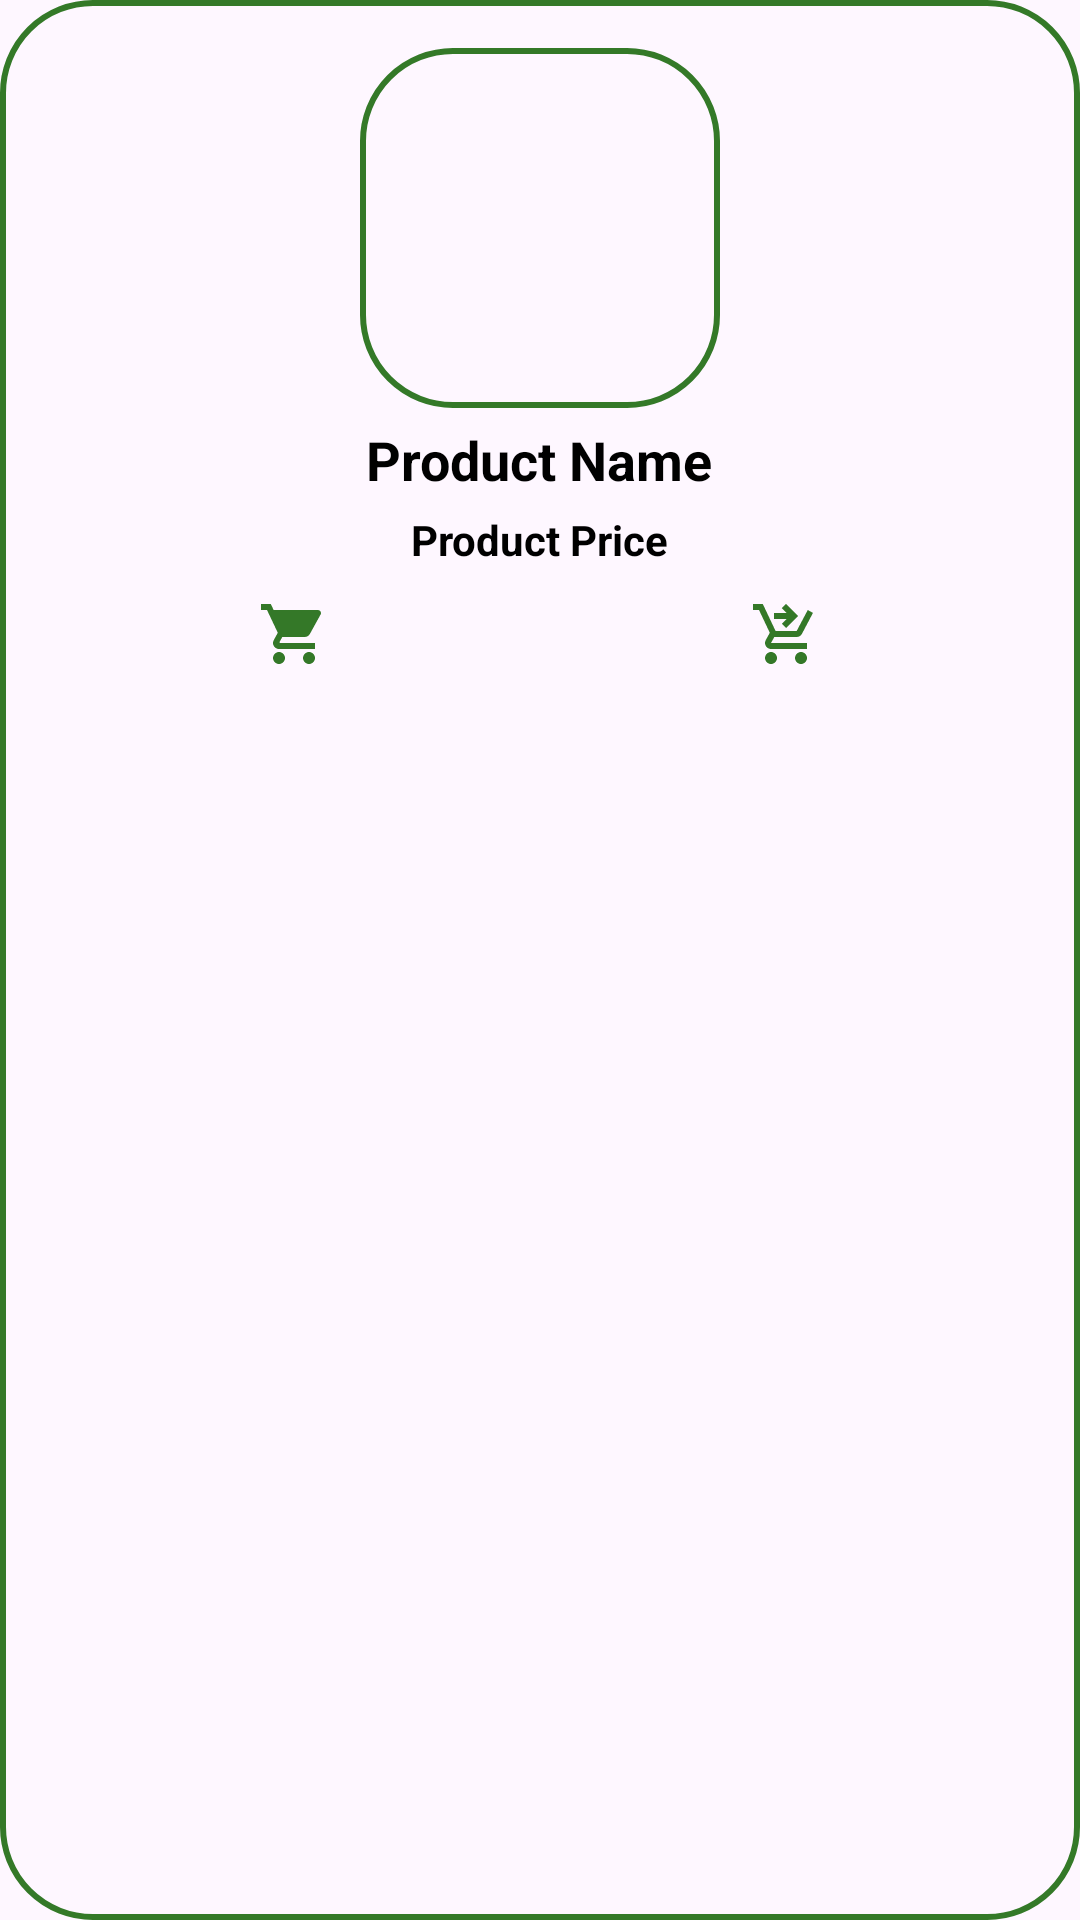

Icon click points for this 1080px×1920px phone screenshot, format (x,y):
shopping cart: (291,634)
shopping cart checkout: (783,634)
